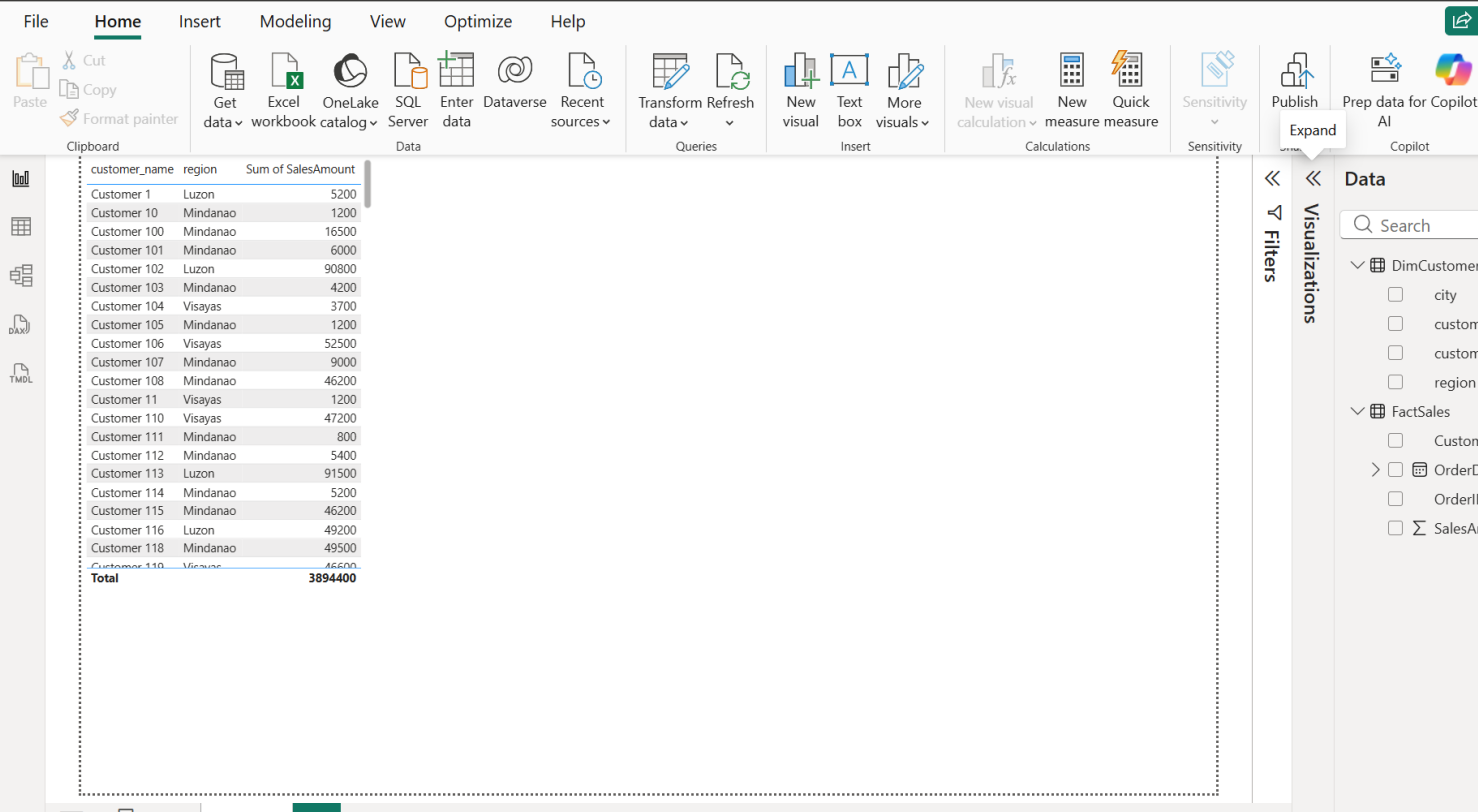

This screenshot's page, from the dashboard's own definition file:
{"tool":"powerbi","page":{"name":"Page 1","canvas":[1280,720],"ordinal":0},"visuals":[{"type":"tableEx","fields":{"Values":["DimCustomer.customer_name","DimCustomer.region","Sum(FactSales.SalesAmount)"]},"box":[0,0,332.6,491.3],"z":0}]}

Visuals, with their boxes on the page's 1280x720 design canvas (x1, y1, x2, y2). These are canvas units, not pixel positions in the 1478x812 screenshot, which may show the page scaled, cropped or inside an application window:
tableEx - DimCustomer.customer_name x DimCustomer.region: (left=0, top=0, right=333, bottom=491)
